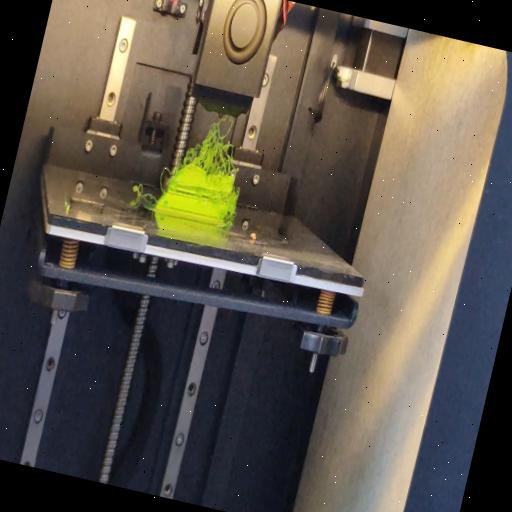spaghetti: (184, 112, 248, 178), (128, 180, 162, 214), (156, 166, 172, 190), (222, 216, 236, 232)
